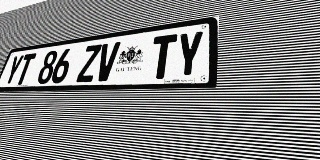6: (50, 48, 74, 83)
8: (36, 50, 60, 84)
T: (148, 34, 177, 79), (14, 53, 37, 85)
V: (94, 42, 121, 82)
Y: (173, 30, 204, 78), (3, 55, 25, 85)
Z: (76, 44, 102, 82)
